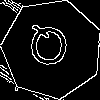Q: (27, 24, 70, 75)
